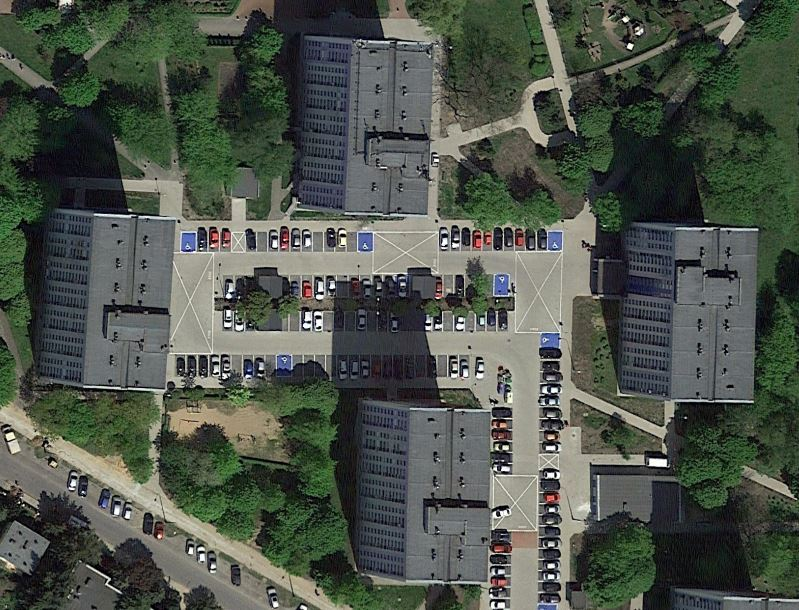block of flats: (23, 187, 186, 404), (600, 209, 762, 410), (346, 387, 503, 593), (286, 19, 435, 221)
